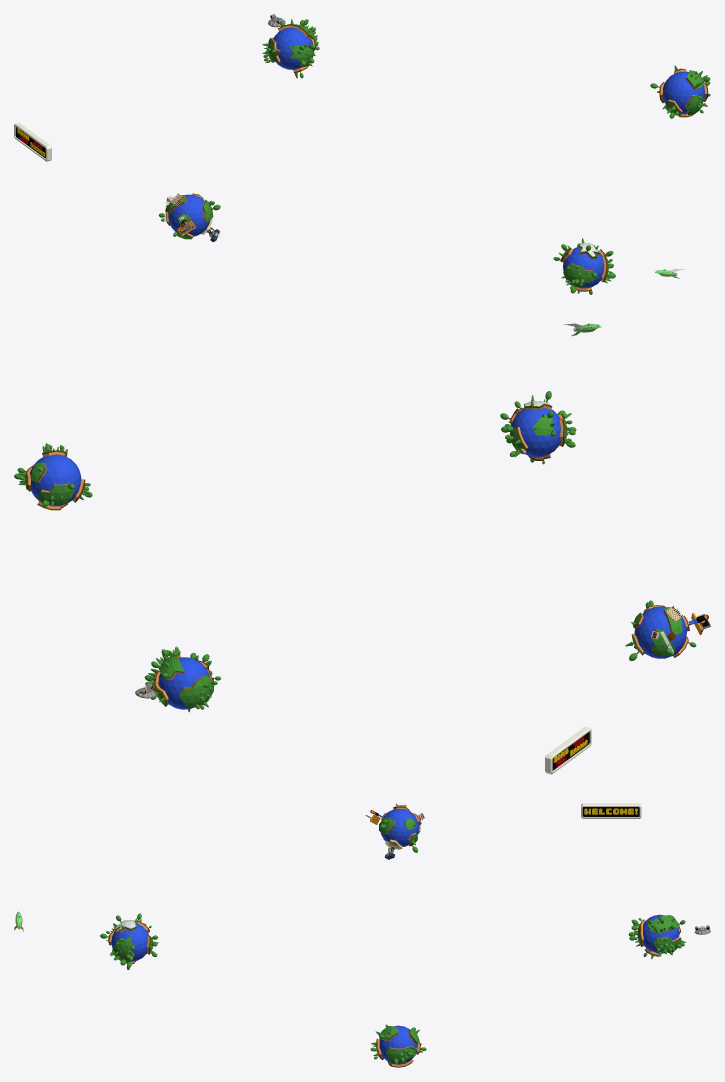
File: planets2.glb
3 views of the same model, one above another, from view 1: azimuth 30°, elevation 25°; view 2: azimuth 150°, elevation 25°; view 3: azimuth 270°, elevation 25° (orthographic). The views are drawn at different scales.
Visible parts, largest first — view 1: planet_4, planet_2, Icosphere.006, planet_3, Text.012; view 2: planet_2, planet_4, Icosphere.006, planet_3, Text.012; view 3: planet_2, planet_4, Icosphere.006, planet_3, Text.012.
Part boxes in pixels (left/top/right/bottom): planet_4: left=262, top=19, right=319, bottom=78; planet_2: left=553, top=238, right=615, bottom=294; Icosphere.006: left=158, top=193, right=220, bottom=241; planet_3: left=650, top=65, right=710, bottom=118; Text.012: left=14, top=122, right=51, bottom=161; planet_2: left=500, top=391, right=576, bottom=464; planet_4: left=144, top=646, right=221, bottom=712; Icosphere.006: left=625, top=600, right=710, bottom=660; planet_3: left=14, top=442, right=92, bottom=510; Text.012: left=545, top=726, right=591, bottom=774; planet_2: left=100, top=913, right=158, bottom=969; planet_4: left=628, top=914, right=685, bottom=959; Icosphere.006: left=365, top=803, right=424, bottom=859; planet_3: left=370, top=1024, right=426, bottom=1067; Text.012: left=581, top=803, right=641, bottom=818.
Size of the model in its own units: 3.03 by 0.3402 by 3.54.
Materials: 64 (3 with a texture image).
